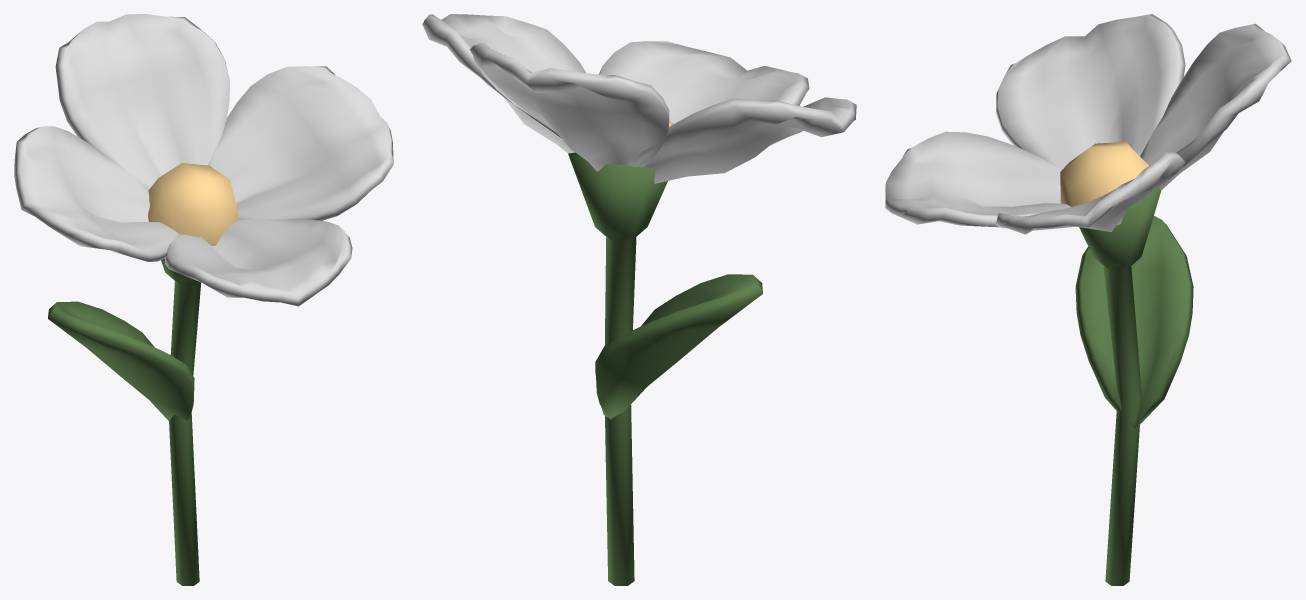
Rendered from flower.fbx.
The picture shows the model from 3 angles, left to right: view 1: azimuth 30°, elevation 25°; view 2: azimuth 150°, elevation 25°; view 3: azimuth 270°, elevation 25°; orthographic projection. The views are drawn at different scales.
Parts seen in each view (by area): view 1: 立方体.001, 平面.005; view 2: 立方体.001, 平面.005; view 3: 立方体.001, 平面.005.
Boxes of the visible parts, bbox=[...] form: 立方体.001: bbox=[14, 14, 393, 306]; 平面.005: bbox=[48, 259, 201, 585]; 立方体.001: bbox=[422, 14, 856, 183]; 平面.005: bbox=[568, 152, 762, 585]; 立方体.001: bbox=[885, 14, 1291, 234]; 平面.005: bbox=[1075, 187, 1193, 585].
Size of the model in its own units: 3.48 by 3.74 by 5.03.
